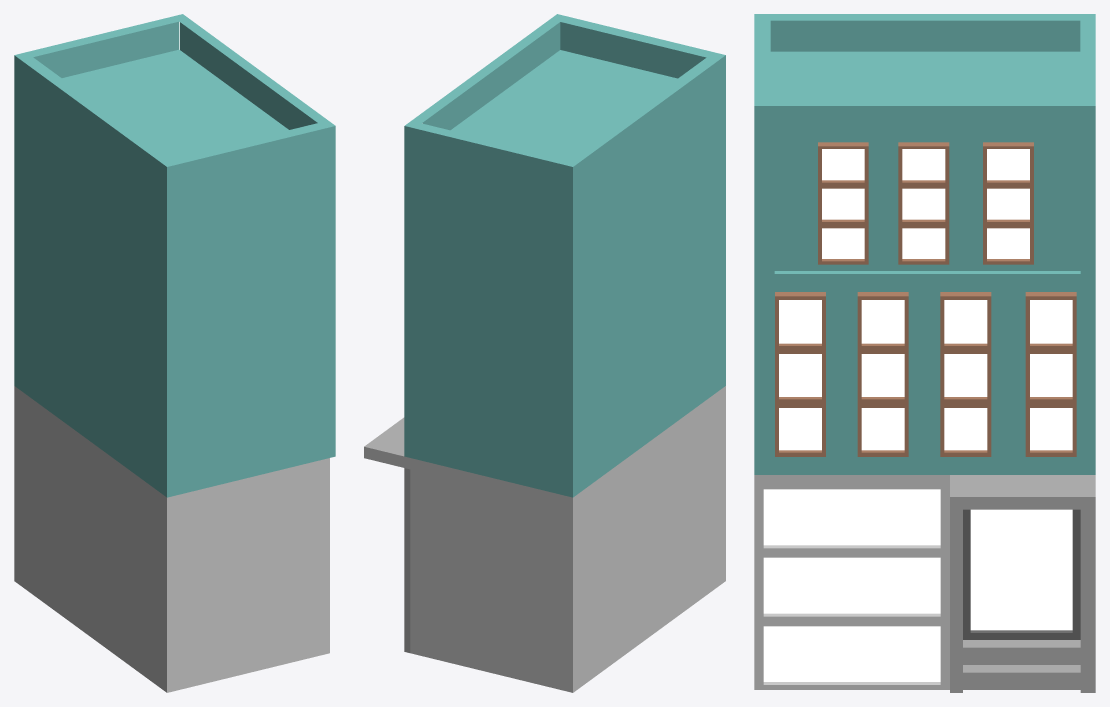
Rendered from House 3.2.fbx.
The picture shows the model from 3 angles, left to right: view 1: azimuth 30°, elevation 25°; view 2: azimuth 150°, elevation 25°; view 3: azimuth 270°, elevation 25°; orthographic projection. The views are drawn at different scales.
Visible parts, largest first — view 1: House 3.003; view 2: House 3.003; view 3: House 3.003.
Part boxes in pixels (box(x1,y1,x2,y2)): House 3.003: box(14, 14, 335, 692); House 3.003: box(364, 14, 725, 692); House 3.003: box(754, 14, 1095, 692).
Size of the model in its own units: 725 by 1743 by 919.
